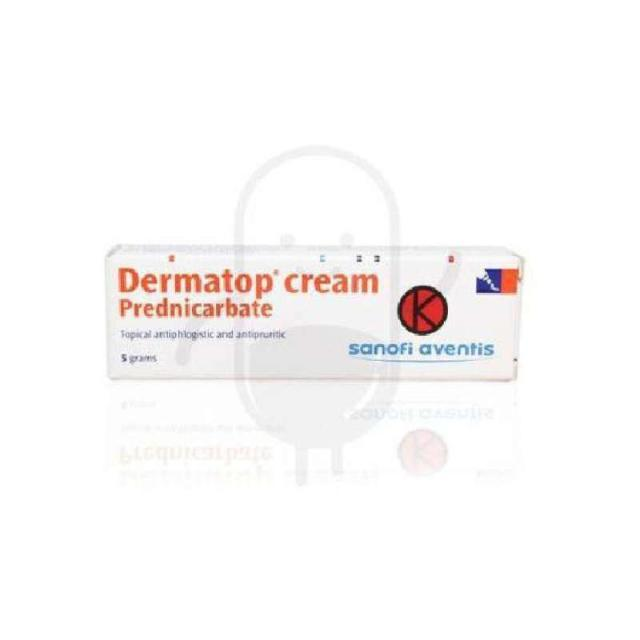drug-name: (117, 262, 276, 300)
